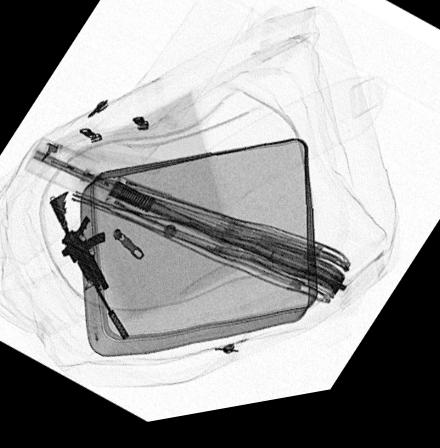Gun: (48, 192, 131, 345)
